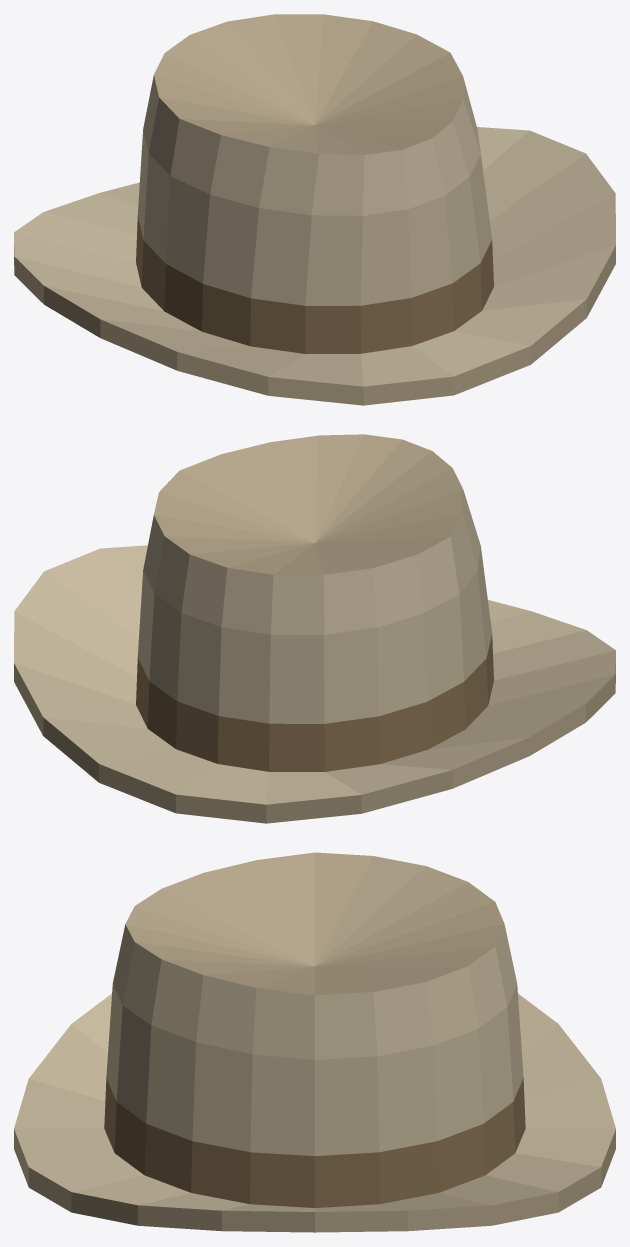
File: trooper_hat.glb
3 views of the same model, one above another, from view 1: azimuth 30°, elevation 25°; view 2: azimuth 150°, elevation 25°; view 3: azimuth 270°, elevation 25° (orthographic). The views are drawn at different scales.
Parts seen in each view (by area): view 1: trooper_hat; view 2: trooper_hat; view 3: trooper_hat.
Part boxes in pixels (box(x1,y1,x2,y2)): trooper_hat: box(14, 14, 615, 405); trooper_hat: box(14, 434, 615, 823); trooper_hat: box(14, 852, 615, 1232).
Bounding box in the file's own units: 0.36 × 0.132 × 0.32.
